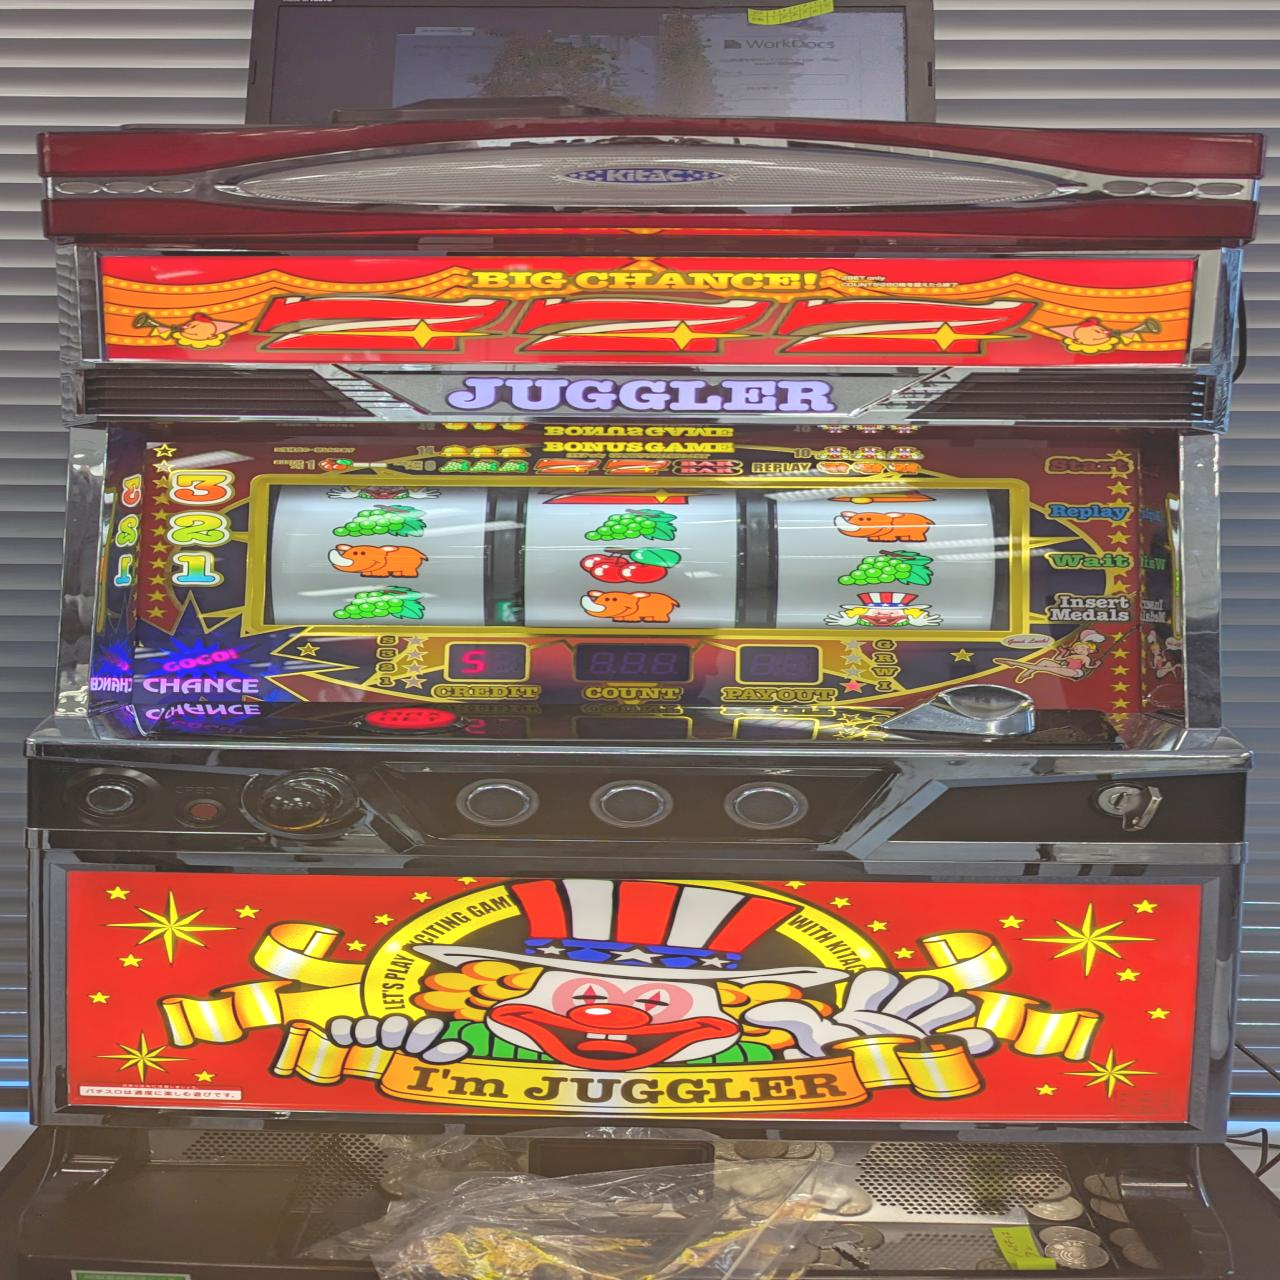8: (328, 543, 433, 577), (581, 588, 680, 624), (832, 511, 937, 543)
Display: (253, 476, 1029, 638)
cherry: (577, 546, 682, 584)
clown: (822, 591, 946, 632)
grape: (835, 547, 937, 586), (333, 581, 430, 621), (328, 504, 433, 538), (579, 509, 679, 542)
